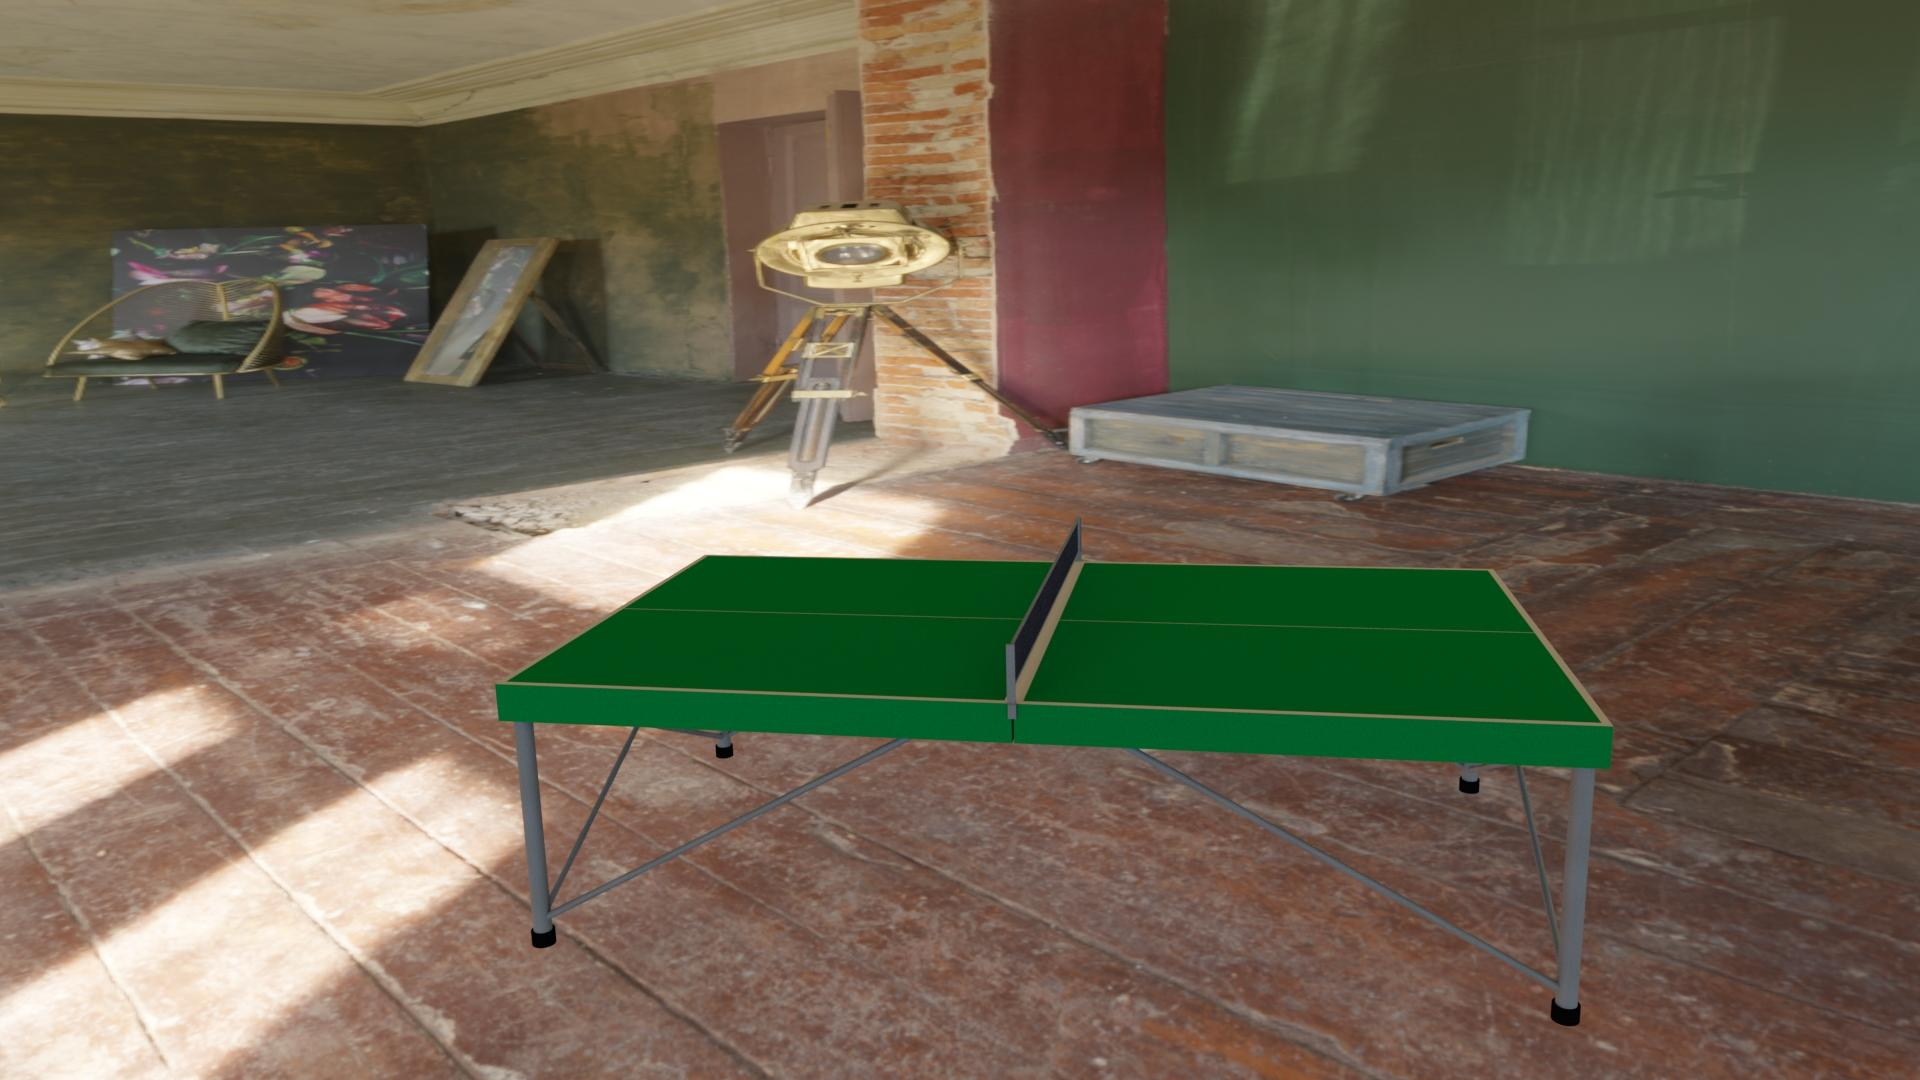table: (506, 555, 1602, 723)
